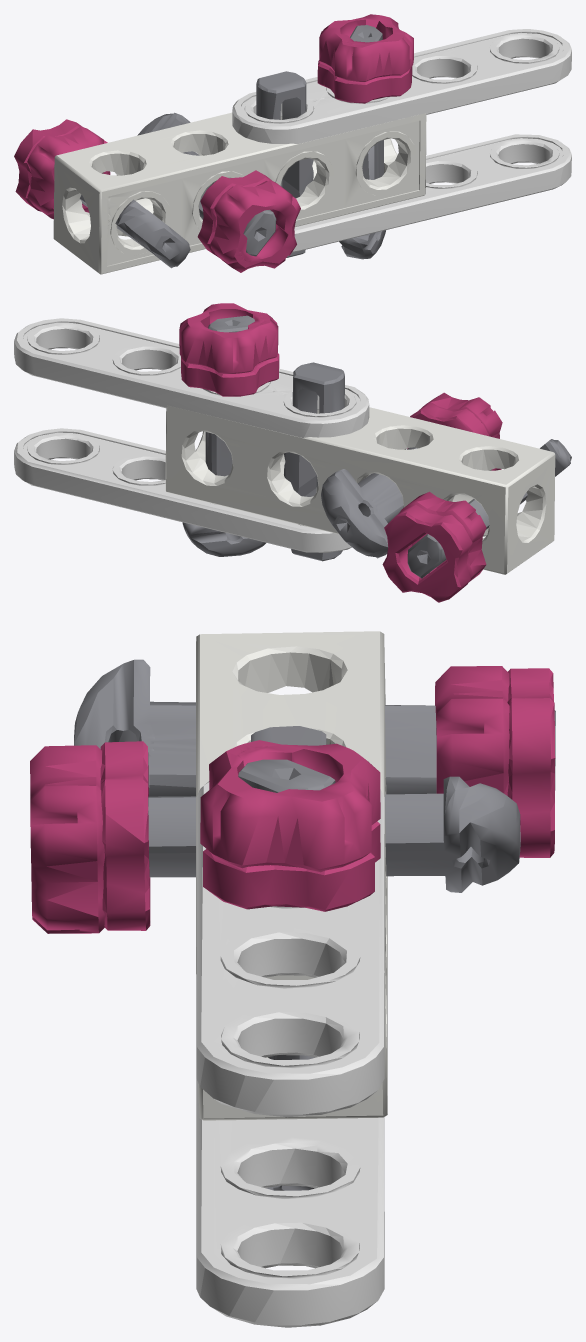
File: UMilestone1.fbx
3 views of the same model, one above another, from view 1: azimuth 30°, elevation 25°; view 2: azimuth 150°, elevation 25°; view 3: azimuth 270°, elevation 25° (orthographic). The views are drawn at different scales.
Visible parts, largest first — view 1: Brace STR STD ERR BU04x01x00.25 - SPN-BRC-0003 (stemfie.org); view 2: Brace STR STD ERR BU04x01x00.25 - SPN-BRC-0003 (stemfie.org); view 3: Brace STR STD ERR BU04x01x00.25 - SPN-BRC-0003 (stemfie.org).
Part boxes in pixels (x1,y1,x2,y2): Brace STR STD ERR BU04x01x00.25 - SPN-BRC-0003 (stemfie.org): (14,14,571,274); Brace STR STD ERR BU04x01x00.25 - SPN-BRC-0003 (stemfie.org): (14,303,571,602); Brace STR STD ERR BU04x01x00.25 - SPN-BRC-0003 (stemfie.org): (30,631,555,1327).
Size of the model in its own units: 7467 by 3227 by 3481.
